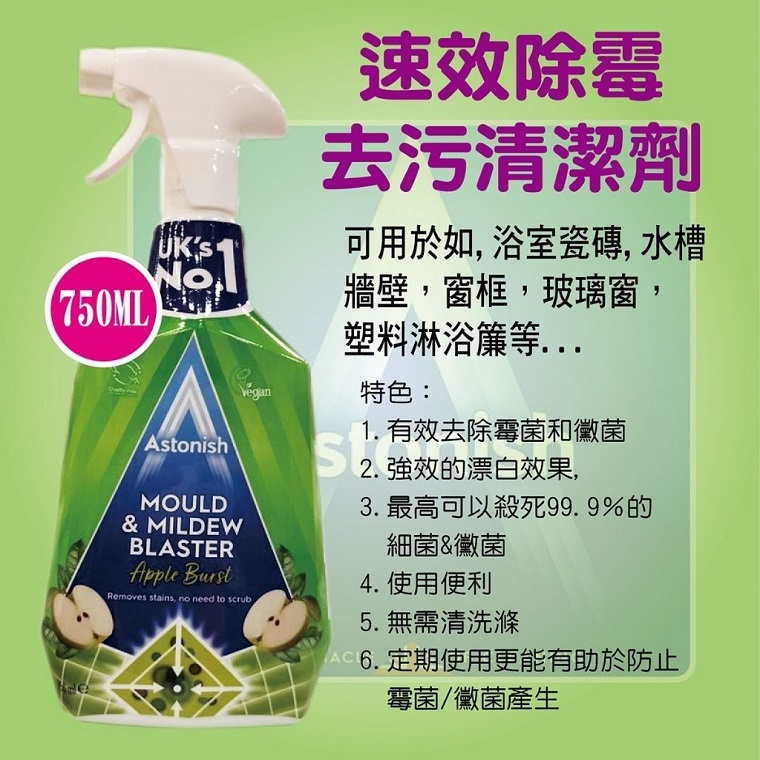cleaner: (33, 38, 335, 732)
